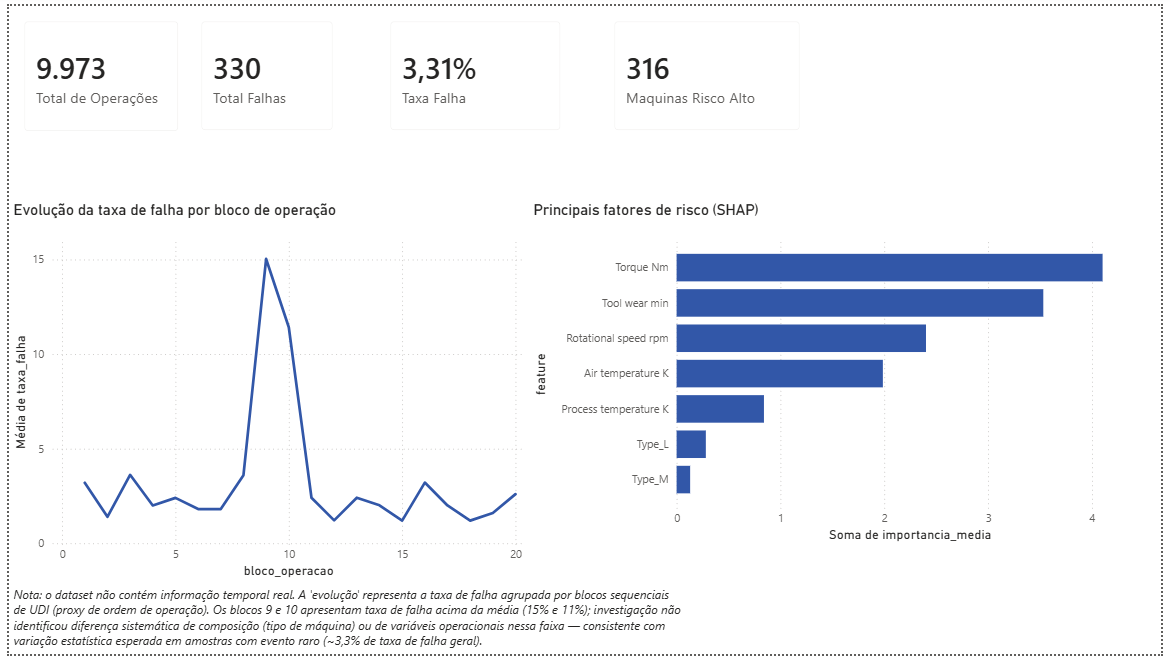

This screenshot's page, from the dashboard's own definition file:
{"tool":"powerbi","page":{"name":"Executive Overview","canvas":[1280,720],"ordinal":0},"visuals":[{"type":"cardVisual","title":"Total de Operações","fields":{"Data":["dashboard_dataset.Total Operacoes"]},"box":[0,0,205,156],"z":0},{"type":"cardVisual","fields":{"Data":["dashboard_dataset.Total Falhas"]},"box":[196.5,0,180.9,155.6],"z":1000},{"type":"cardVisual","fields":{"Data":["dashboard_dataset.Taxa Falha"]},"box":[406.6,0,223.7,155.6],"z":2000},{"type":"cardVisual","fields":{"Data":["dashboard_dataset.Maquinas Risco Alto"]},"box":[655.6,0,240.2,155.6],"z":3000},{"type":"barChart","title":"Principais fatores de risco (SHAP)","fields":{"Category":["shap_importance.feature"],"Y":["Sum(shap_importance.importancia_media)"]},"box":[577.8,216.7,692.2,383.3],"z":4000},{"type":"lineChart","title":"Evolução da taxa de falha por bloco de operação","fields":{"Category":["evolucao_blocos.bloco_operacao"],"Y":["Avg(evolucao_blocos.taxa_falha)"]},"box":[0,216.7,577.8,423.3],"z":5000},{"type":"textbox","box":[0,640,751.9,79.8],"z":6000}]}

Visuals, with their boxes in screenshot pixels (x1, y1, x2, y2), scaled from the page's 1280x720 canvas onto the 1170x664 screenshot:
"Total de Operações" cardVisual: 0/0/187/144
cardVisual - dashboard_dataset.Total Falhas: 180/0/345/143
cardVisual - dashboard_dataset.Taxa Falha: 372/0/576/143
cardVisual - dashboard_dataset.Maquinas Risco Alto: 599/0/819/143
"Principais fatores de risco (SHAP)" barChart: 528/200/1161/553
"Evolução da taxa de falha por bloco de operação" lineChart: 0/200/528/590
textbox: 0/590/687/663
